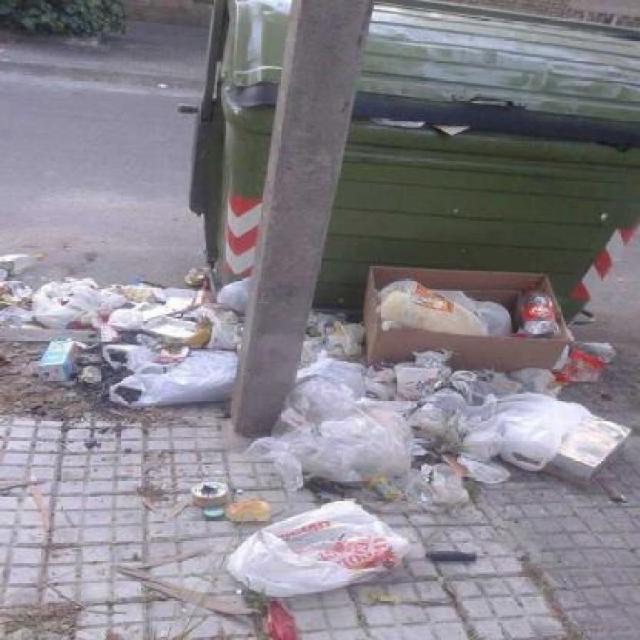garbage: (309, 260, 596, 502), (149, 462, 524, 614), (8, 254, 231, 436), (300, 268, 412, 446)
